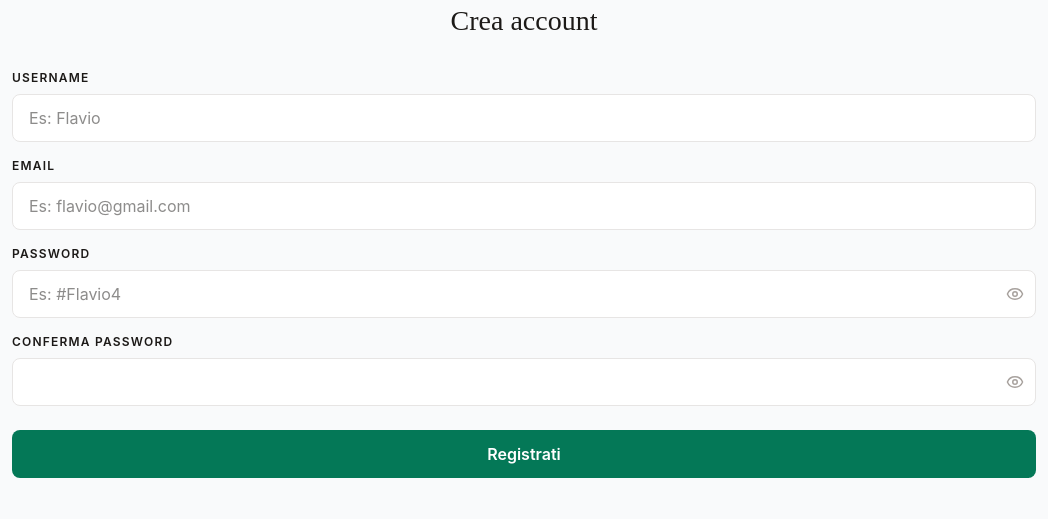
Test: Register › email non valida: mostra errore inline
Type "nonvalida" into the field labelled "Email". click: (524, 206)
box: [12,182,1036,230]
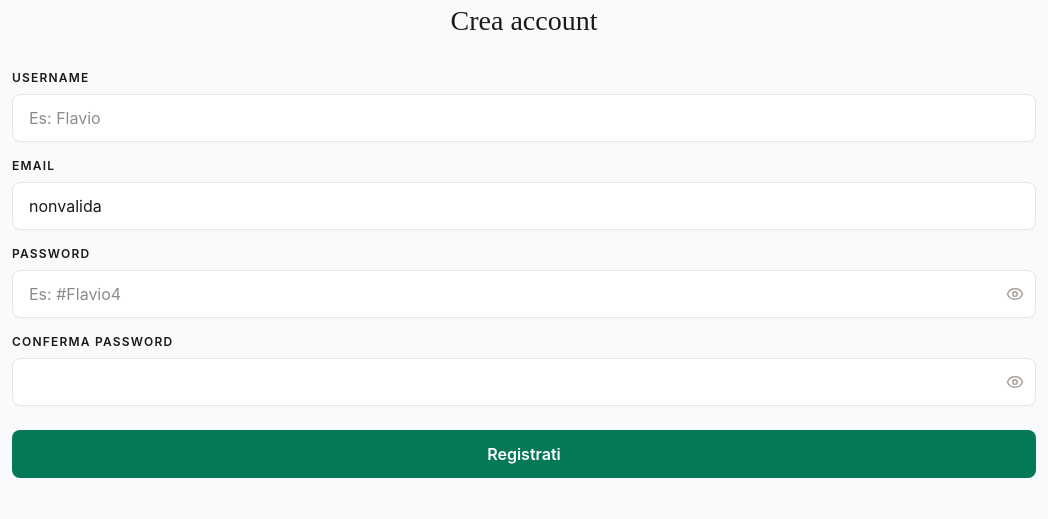
Leave the field labelled "Email", box [12,182,1036,230]
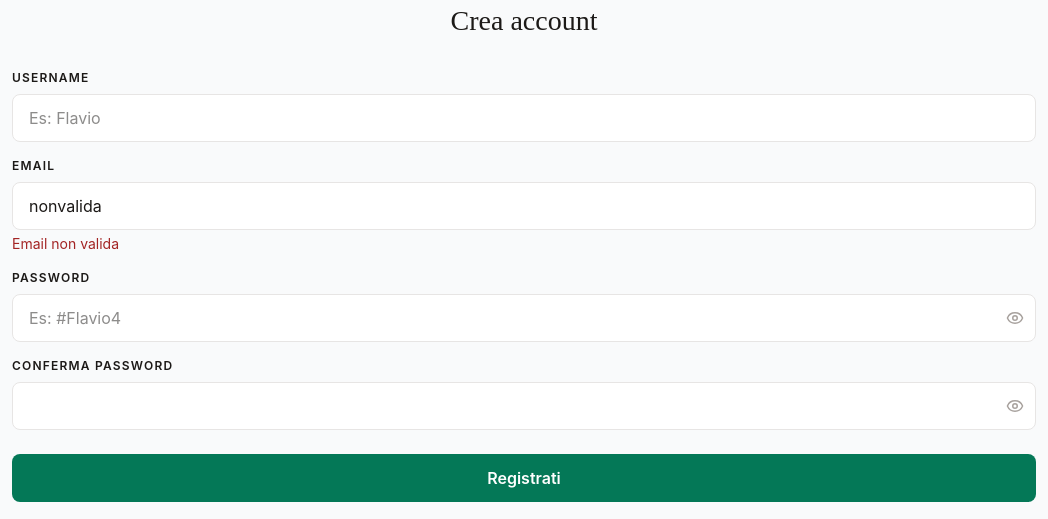
Expected: the text "Email non valida" is shown, [12,235,119,252]
